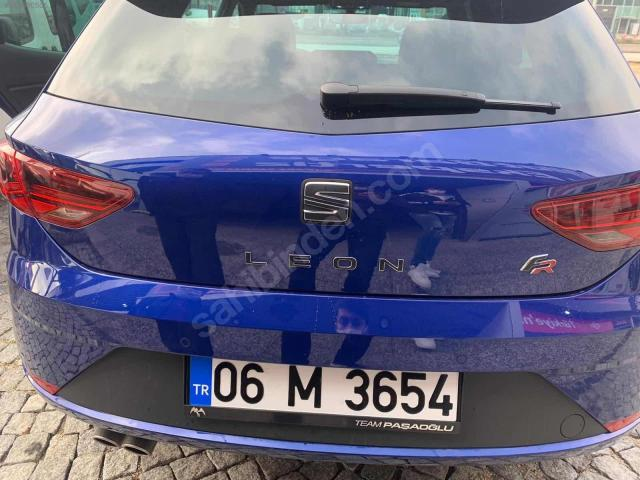plaka: (190, 359, 459, 431)
